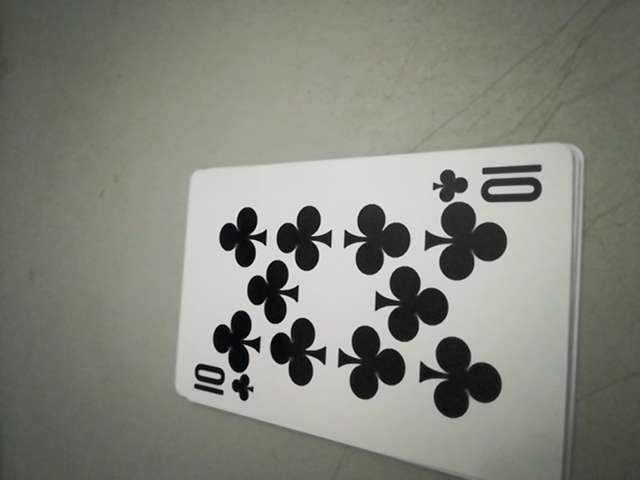mh 10: (433, 158, 552, 207), (186, 363, 260, 408)
